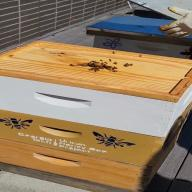Bee: (124, 61, 133, 68)
